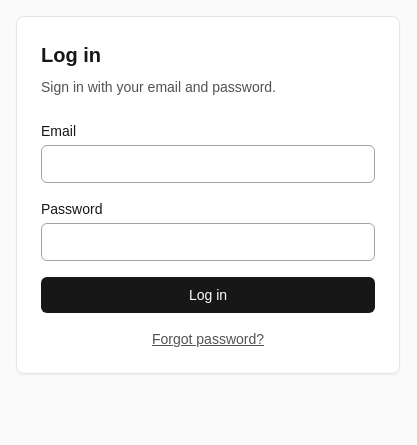
Test: LoginForm › shows the error and stays on the page when sign-in fails
The image size is (417, 445).
Type "pm@example.com" into the field labelled "Email" at (208, 164), box [41, 145, 375, 183]
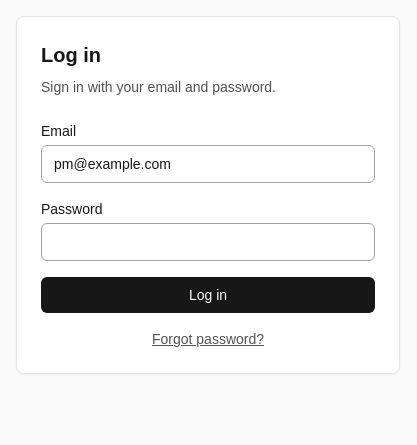
Type "wrong" into the password field labelled "Password" at (208, 242), box [41, 223, 375, 261]
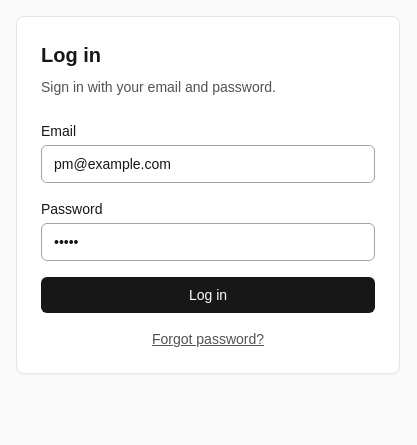
Click the button "Log in" at (208, 295), box [41, 277, 375, 313]
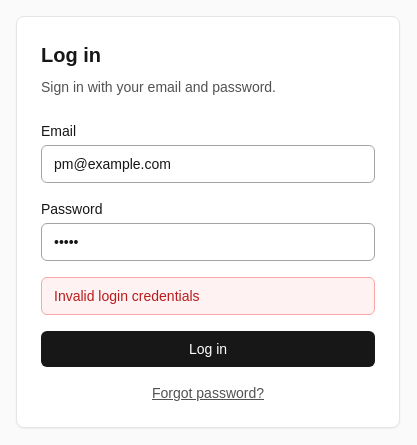
Expected: the button "Log in" is enabled, [41, 331, 375, 367]
Result: the message reads "Invalid login credentials" at [54, 288, 200, 304]
